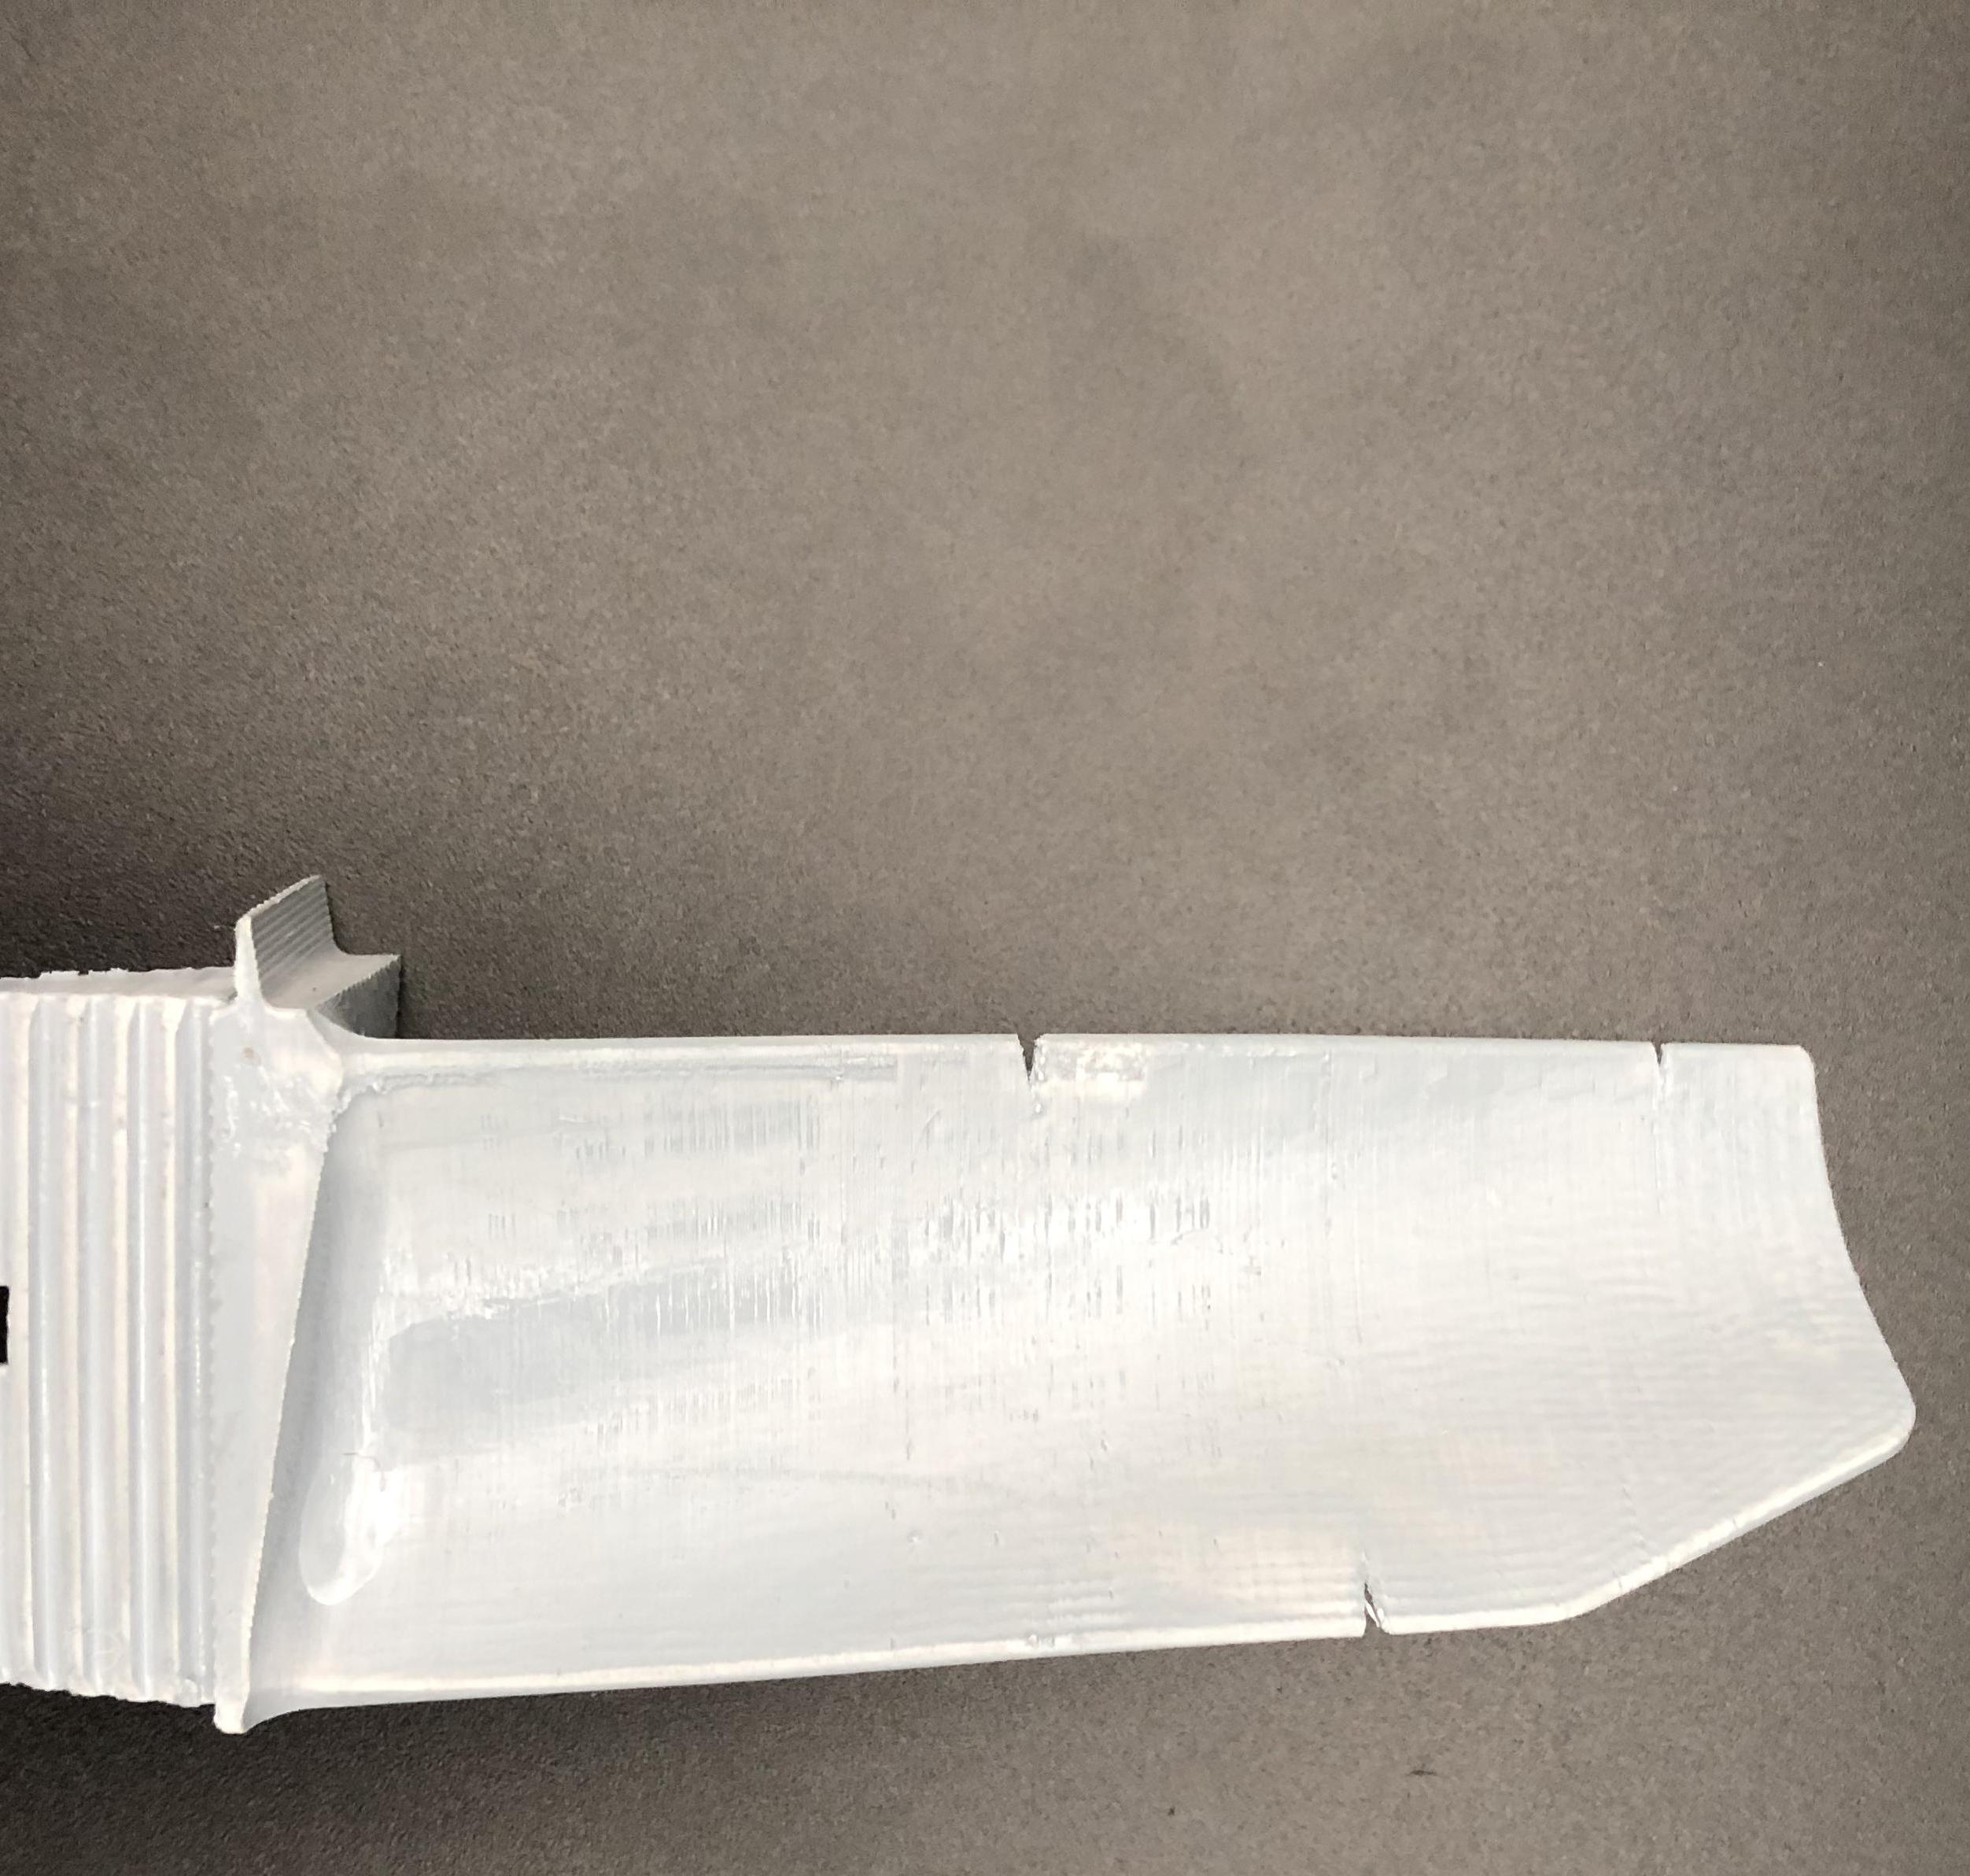groove: (1340, 1575, 1428, 1640), (994, 1037, 1089, 1086), (1634, 1040, 1703, 1077)
